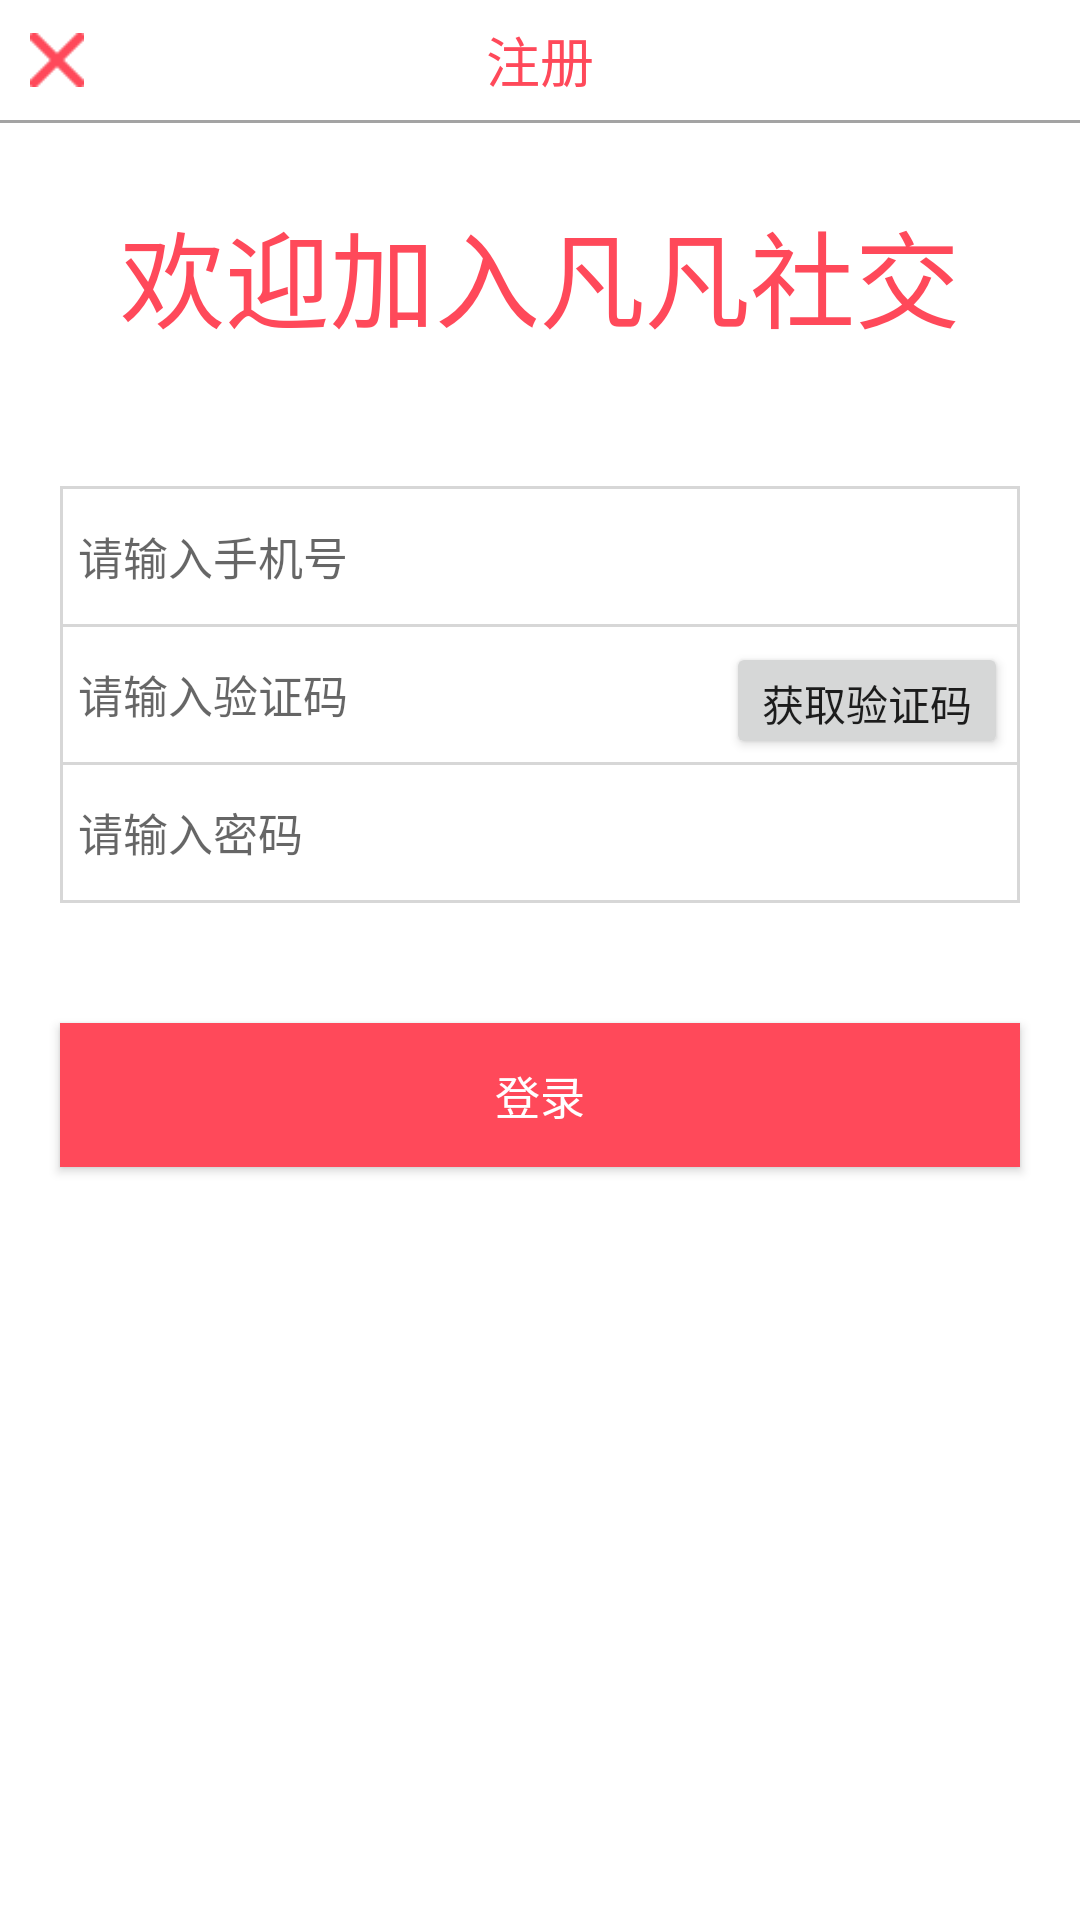

Icon click points for this 1080px x 1920px phone screenshot, format [x,y]:
cancel: [57,60]
